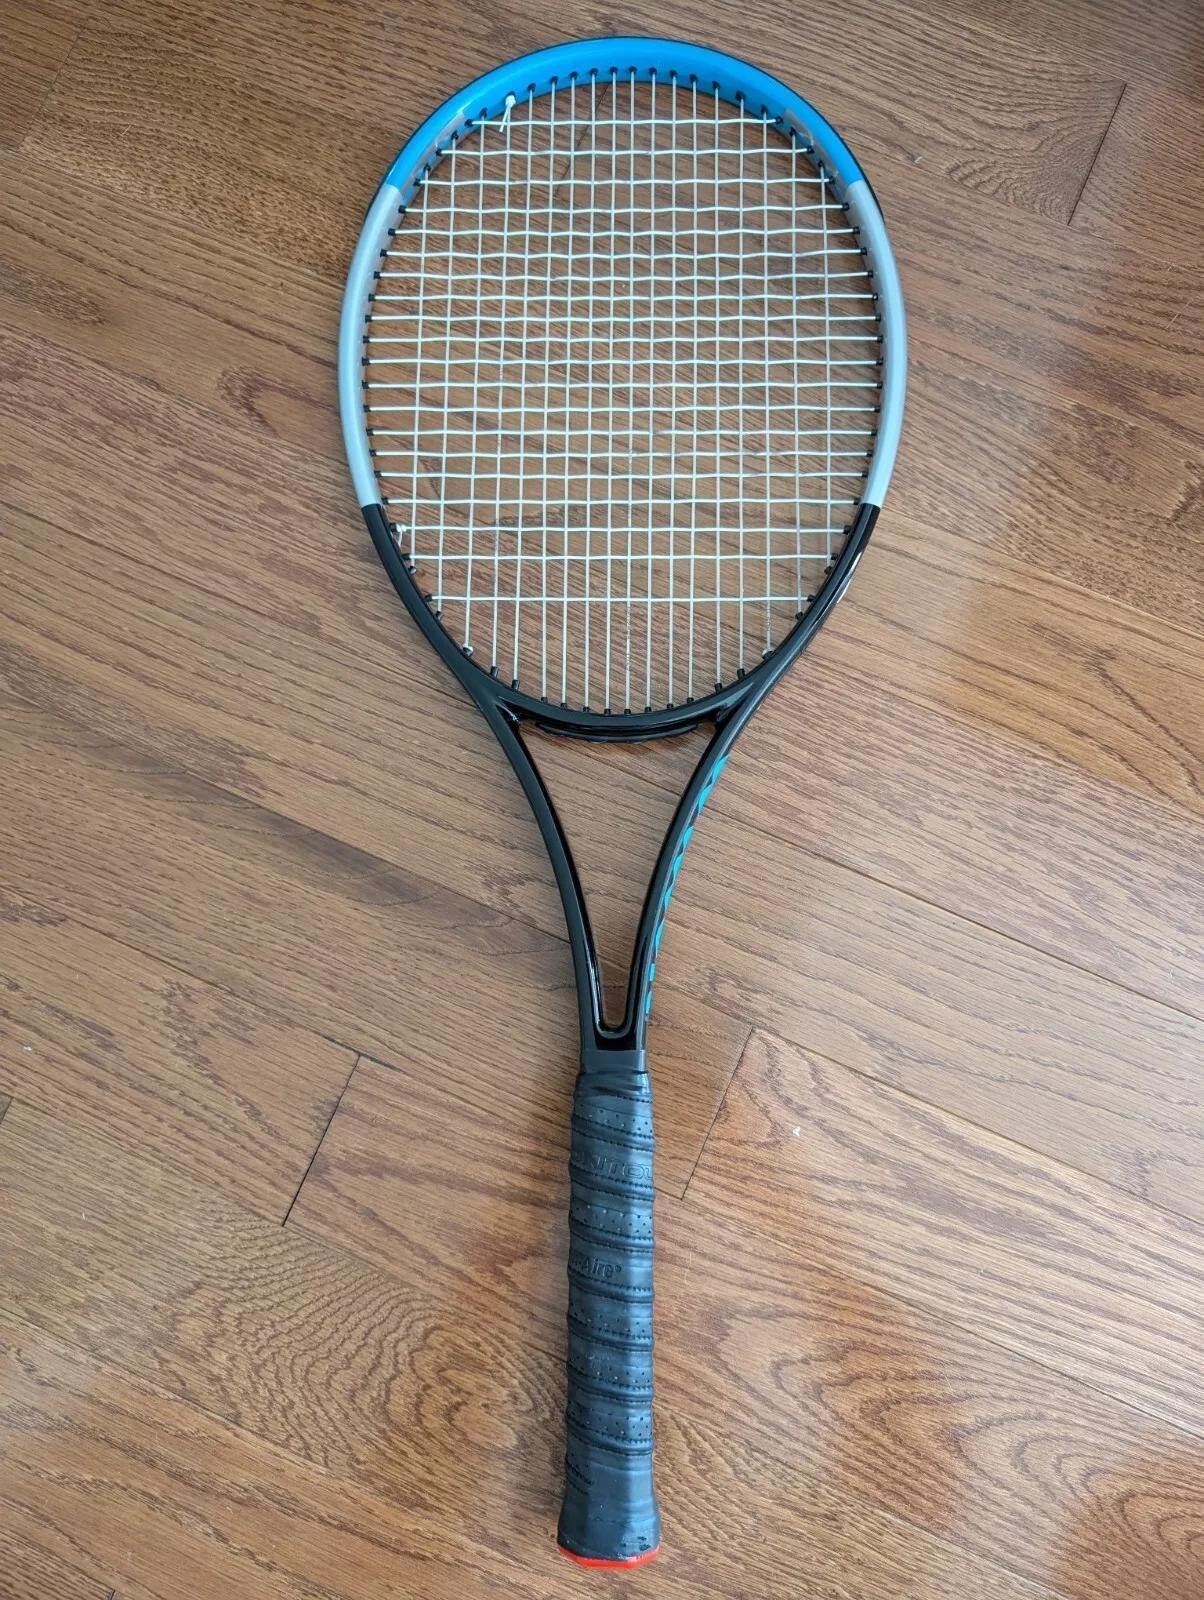Tennis-Racket: (340, 38, 907, 1566)
